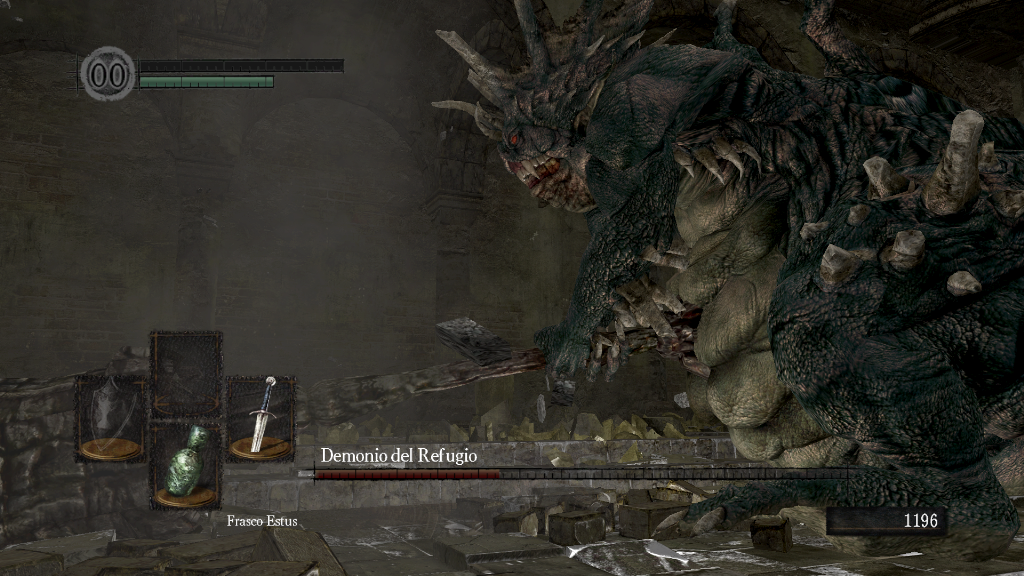asylumDemon: (421, 1, 1024, 538)
bossHP: (314, 469, 847, 479)
health: (138, 58, 343, 71)
humanity: (80, 45, 136, 102)
souls: (825, 506, 945, 536)
stamina: (138, 74, 274, 88)
